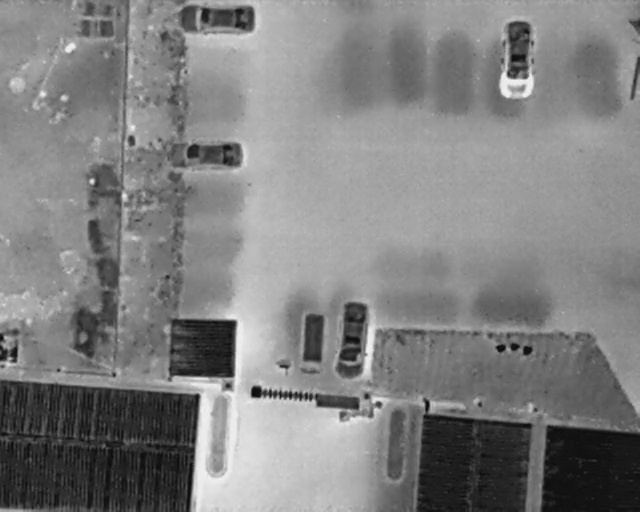Car: (331, 298, 371, 382), (497, 19, 536, 101), (168, 139, 244, 172), (180, 5, 256, 35)
